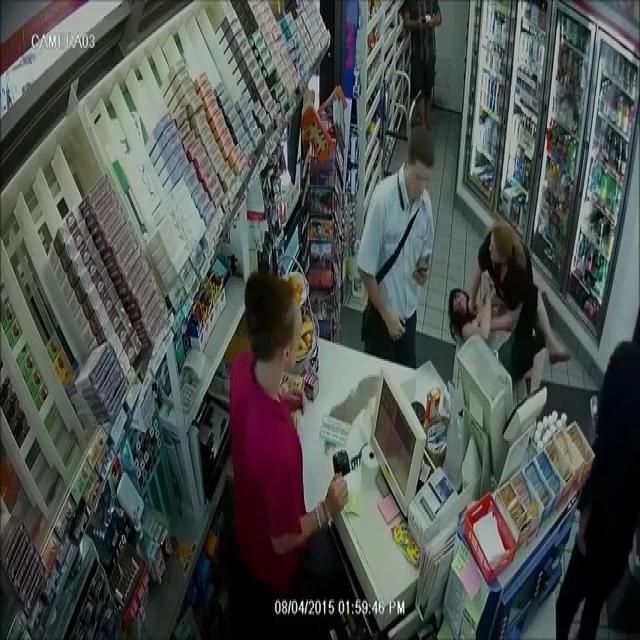fight: (431, 163, 586, 427)
